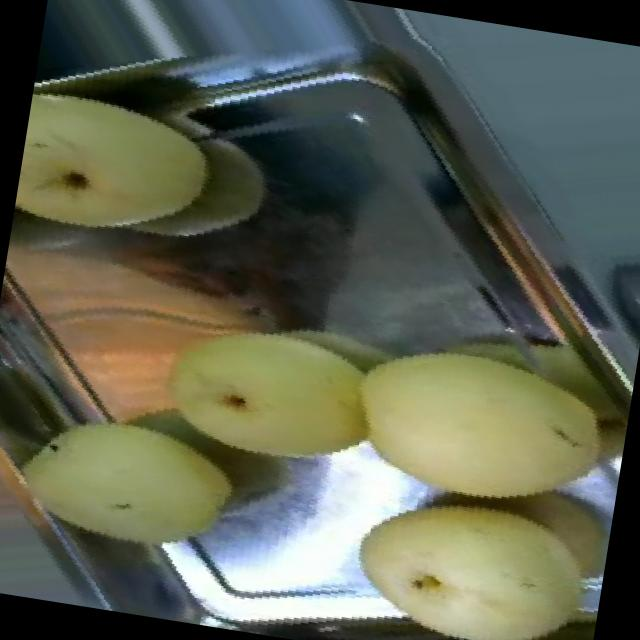Fruit: (0, 167, 351, 502), (321, 285, 640, 552), (0, 370, 268, 599), (6, 48, 250, 292), (321, 445, 617, 640)
